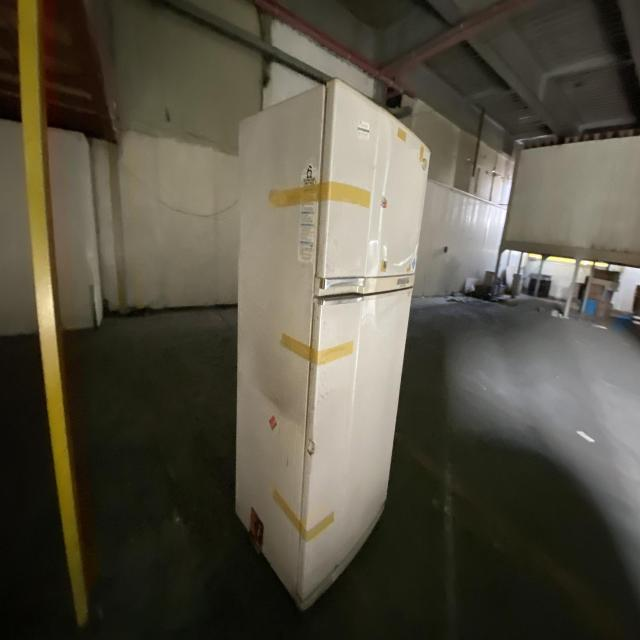refrigerator: (230, 74, 433, 616)
